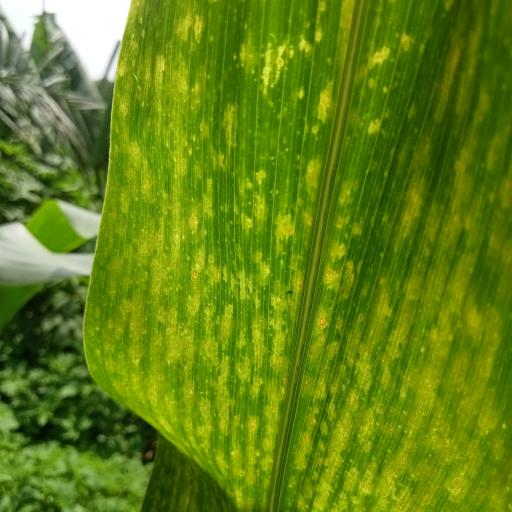Corn_Brown_Spots: (92, 0, 512, 512)
